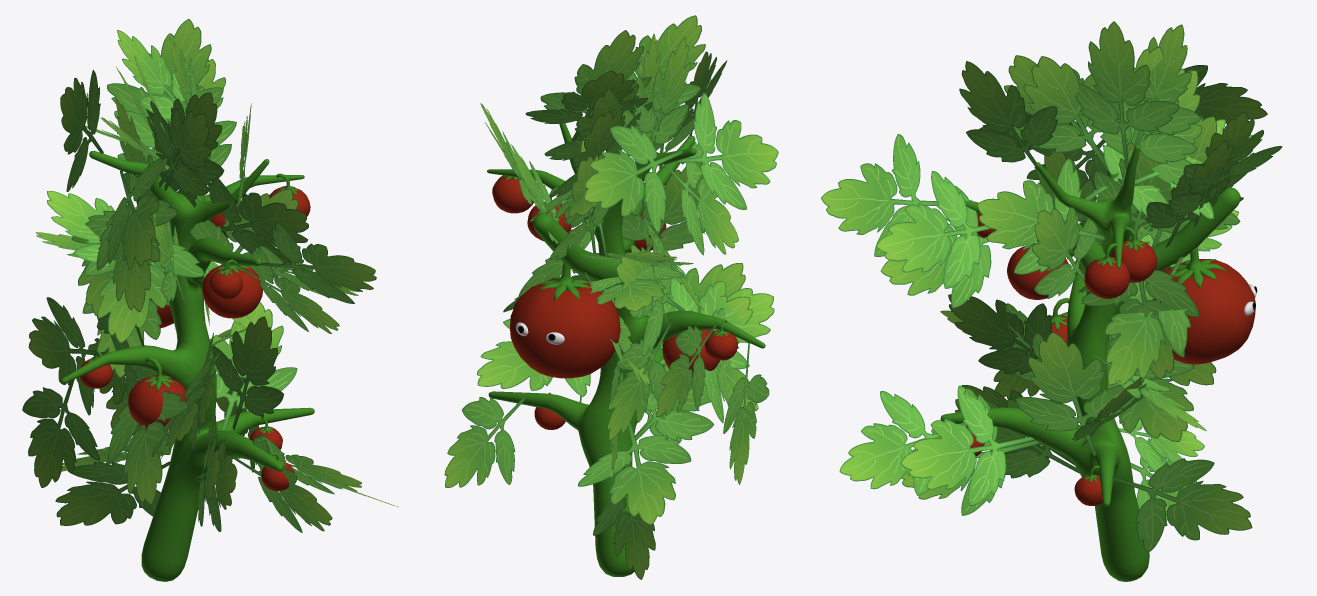
File: tomatoe.fbx
The picture shows the model from 3 angles, left to right: view 1: azimuth 30°, elevation 25°; view 2: azimuth 150°, elevation 25°; view 3: azimuth 270°, elevation 25°; orthographic projection. The views are drawn at different scales.
Visible parts, largest first — view 1: Cube.090, Vert.019, Sphere.017; view 2: Cube.090, Vert.019, Sphere.017; view 3: Cube.090, Vert.019, Sphere.017.
Boxes of the visible parts, x1,y1,x2,y2 form: Cube.090: (22, 19, 398, 532); Vert.019: (61, 147, 314, 581); Sphere.017: (80, 173, 310, 491); Cube.090: (444, 15, 778, 579); Vert.019: (487, 123, 765, 576); Sphere.017: (492, 162, 737, 429); Cube.090: (821, 21, 1282, 552); Vert.019: (940, 144, 1240, 581); Sphere.017: (966, 213, 1255, 505).
Size of the model in its own units: 166 by 329 by 259.
